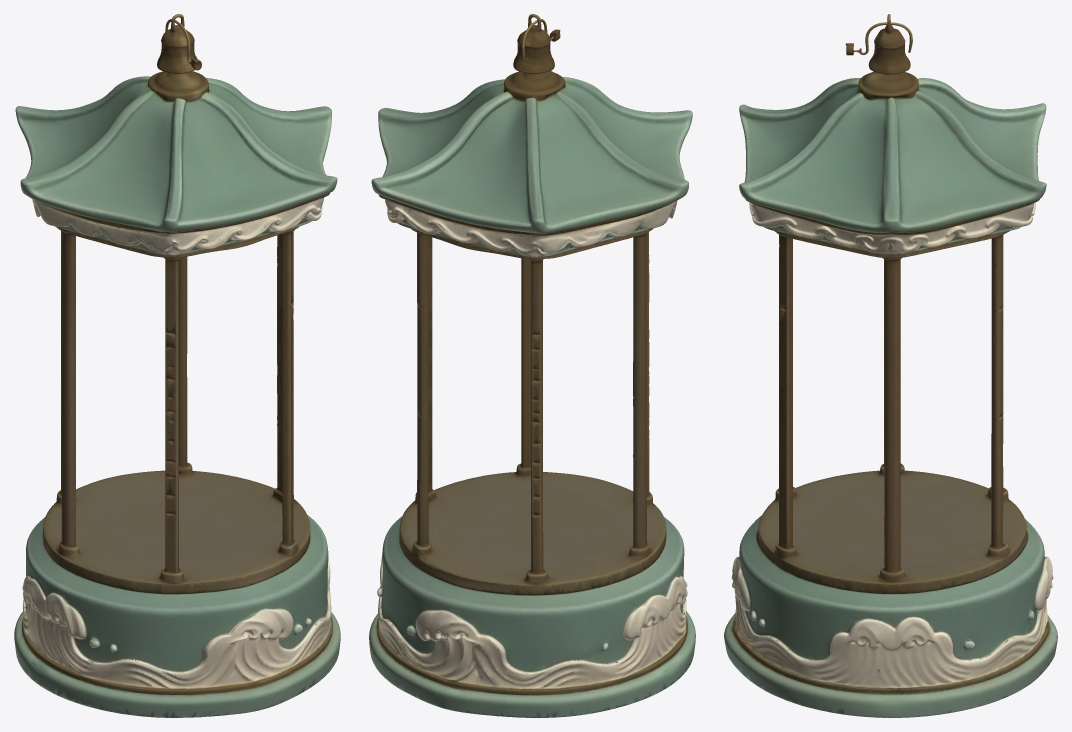
File: act1_float_buoy_cage_rodin.glb
3 renders of one model, left to right at view 1: azimuth 30°, elevation 25°; view 2: azimuth 150°, elevation 25°; view 3: azimuth 270°, elevation 25°, orthographic.
Parts seen in each view (by area): view 1: SM_Act1_FloatBuoyCageRodin; view 2: SM_Act1_FloatBuoyCageRodin; view 3: SM_Act1_FloatBuoyCageRodin.
Part boxes in pixels (x1,y1,x2,y2): SM_Act1_FloatBuoyCageRodin: (14, 14, 340, 717); SM_Act1_FloatBuoyCageRodin: (369, 14, 695, 717); SM_Act1_FloatBuoyCageRodin: (724, 14, 1057, 717).
Bounding box in the file's own units: 1.04 × 2.05 × 0.9766.
Materials: 1 (1 with a texture image).
